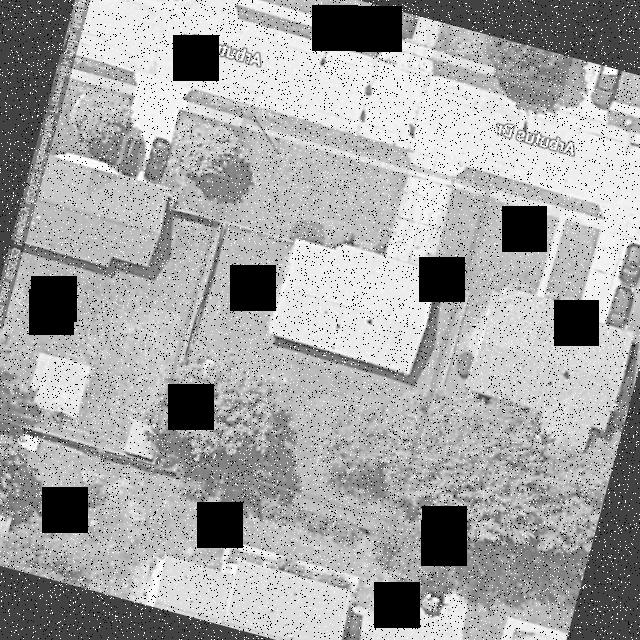Driveway: (387, 172, 451, 266)
Extra Driveway: (407, 149, 467, 175)
Extra Lawn: (243, 104, 409, 161), (456, 166, 493, 186)
House: (269, 238, 439, 372)
